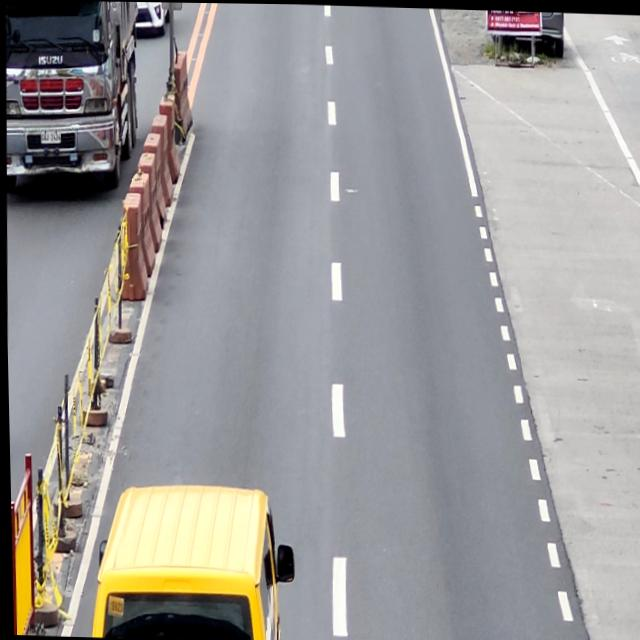Car: (88, 481, 294, 640)
